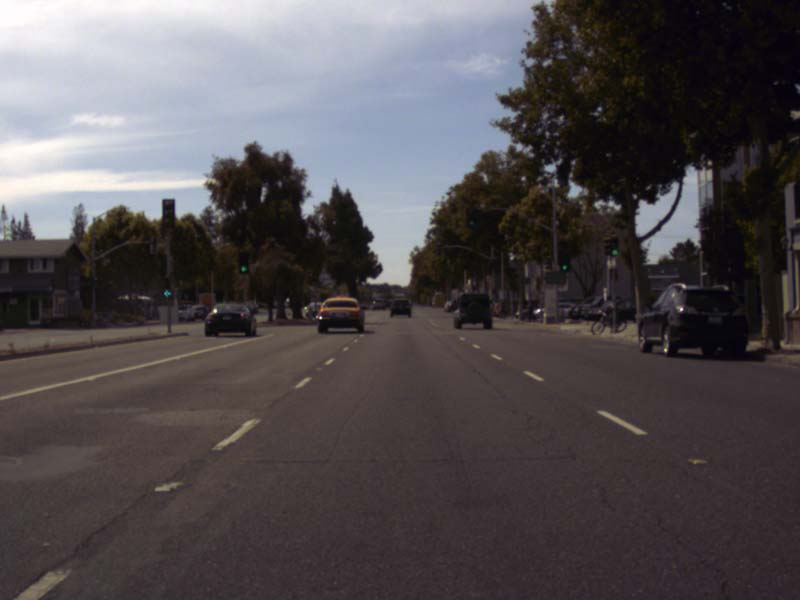Green: (464, 206, 477, 228), (238, 252, 249, 273), (162, 278, 172, 298), (558, 253, 568, 271), (609, 238, 618, 256)
